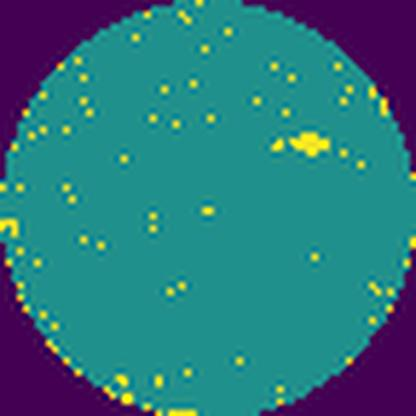Loc: (289, 130, 332, 157)
